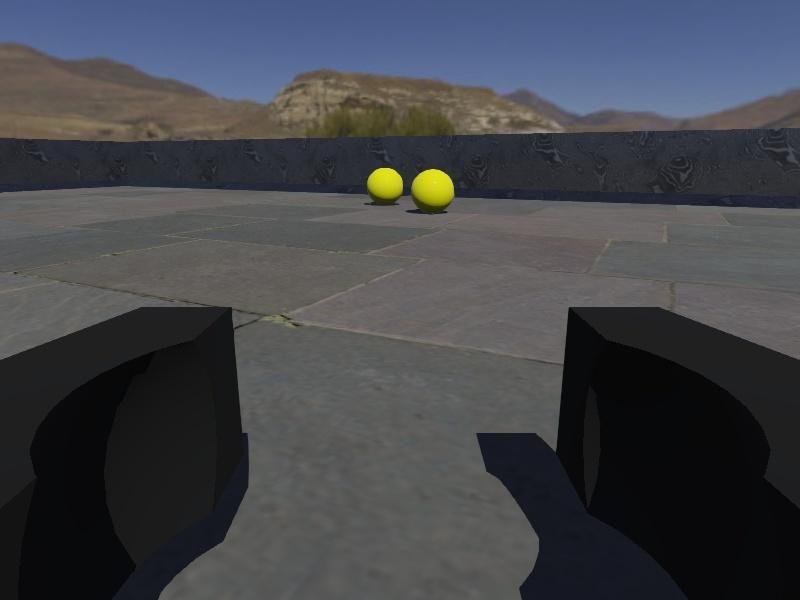yellow ball: (412, 168, 456, 214), (367, 166, 405, 205)
